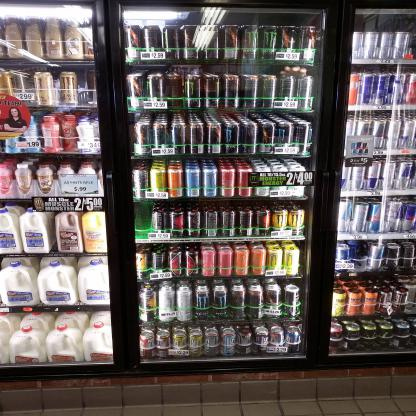Void: (19, 71, 34, 103), (76, 75, 87, 103)
